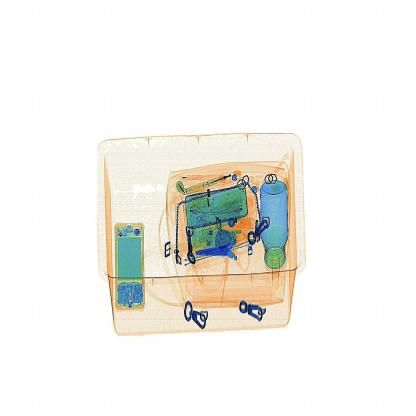gun: (192, 222, 254, 284)
